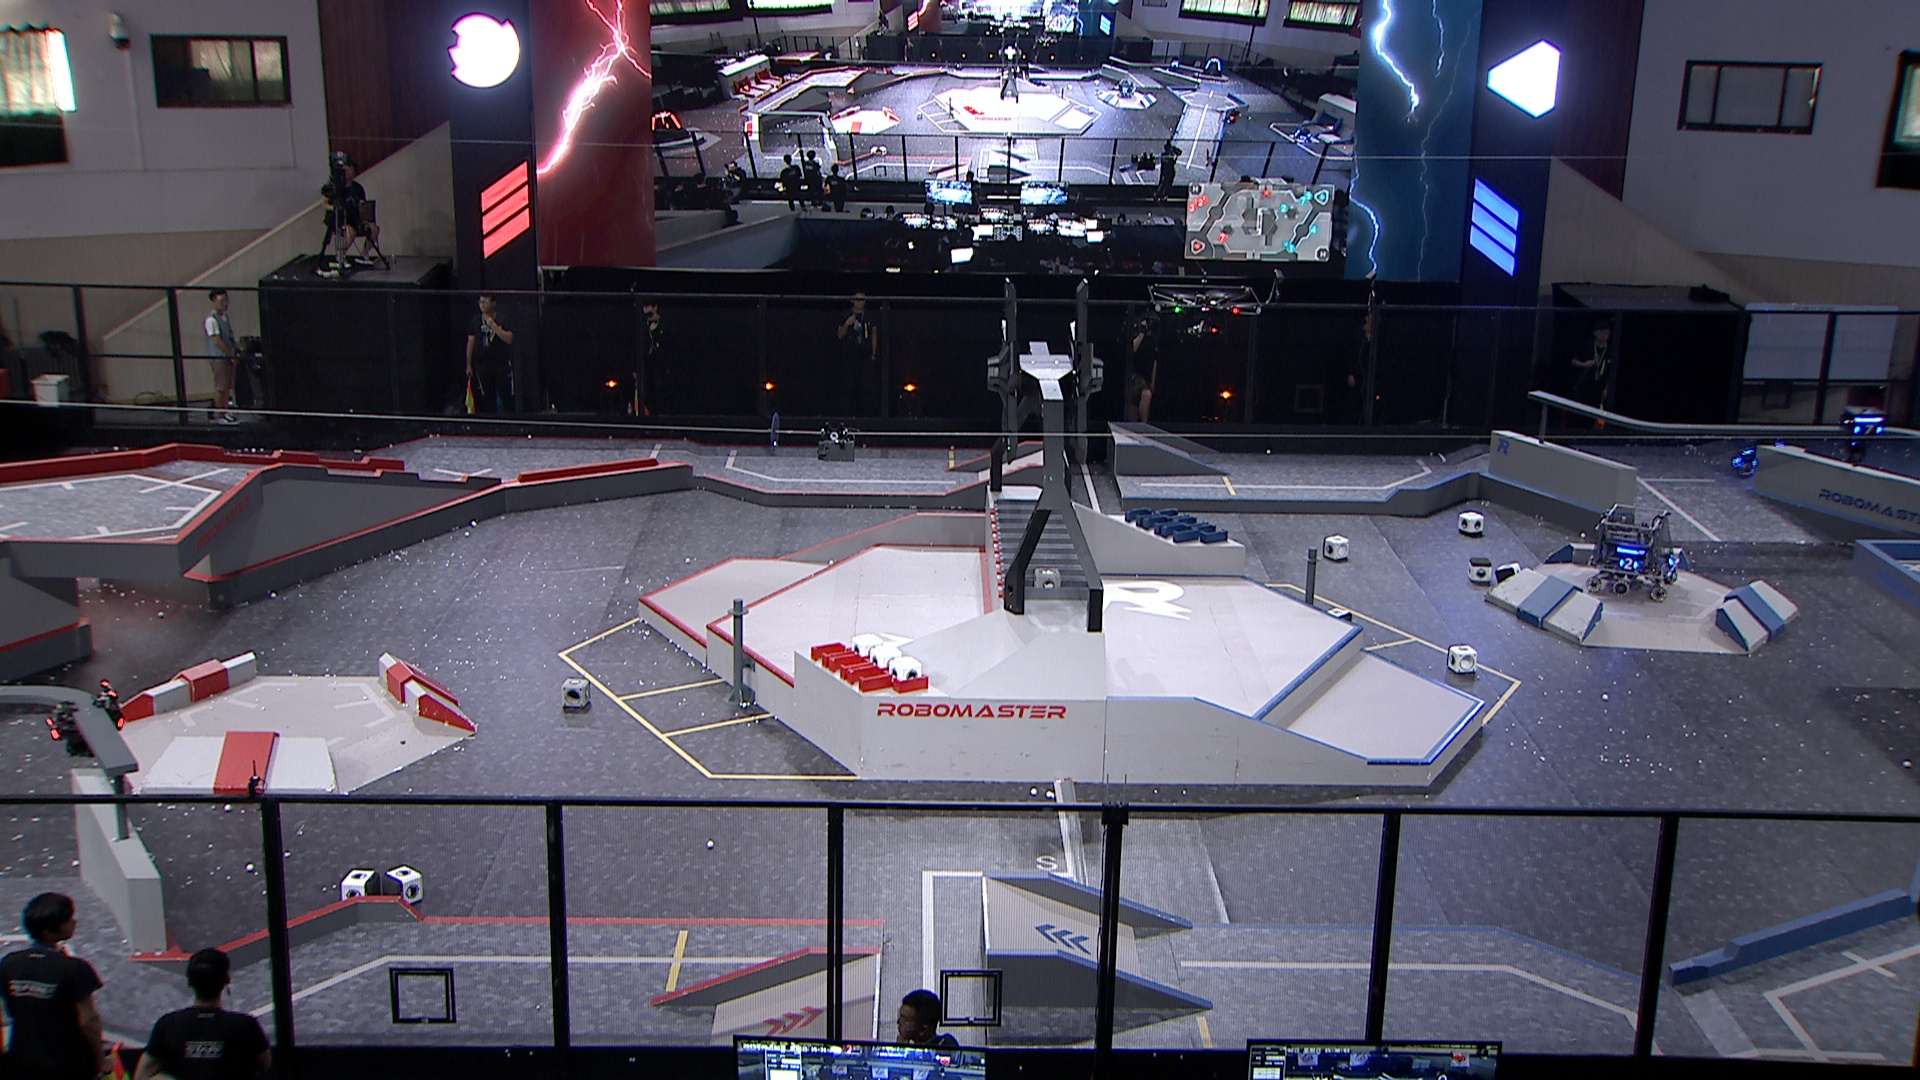armor: (1854, 419, 1887, 440), (40, 713, 63, 741), (1617, 556, 1640, 574), (1664, 550, 1681, 567)
car: (1585, 498, 1688, 603), (1731, 419, 1803, 481)
ignore: (647, 107, 692, 145), (1204, 55, 1229, 79), (1116, 78, 1135, 98), (1295, 128, 1316, 146)
watcher: (40, 679, 131, 764), (1833, 405, 1890, 462)
